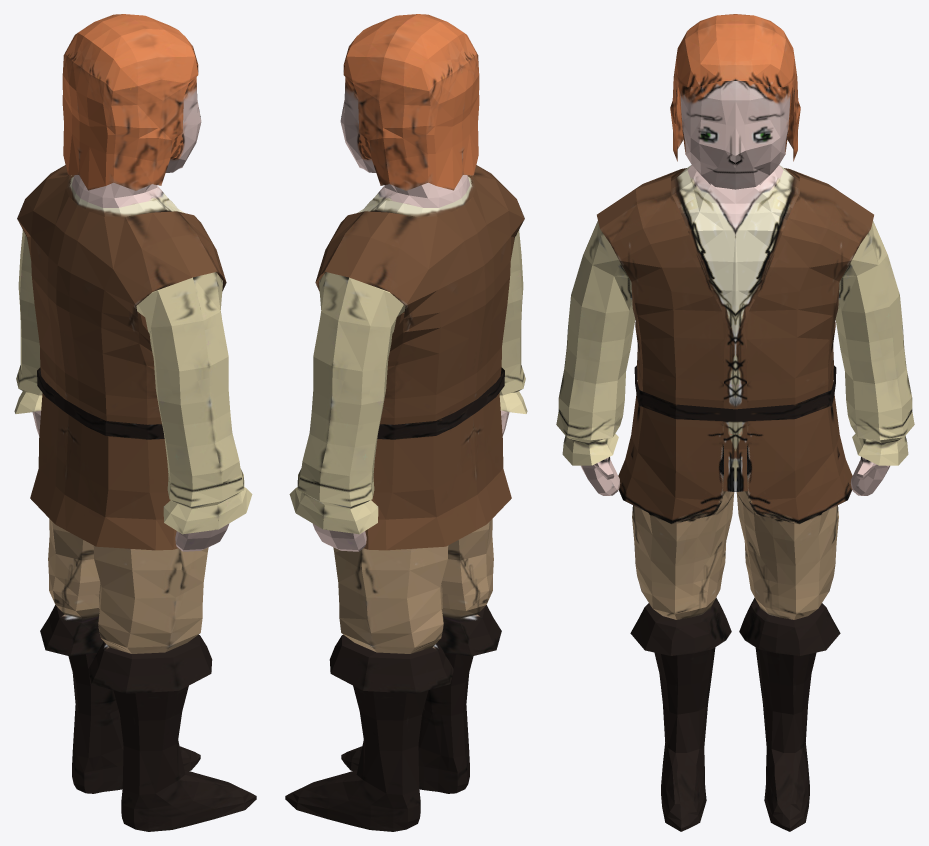
File: manfred.dae
The picture shows the model from 3 angles, left to right: view 1: azimuth 30°, elevation 25°; view 2: azimuth 150°, elevation 25°; view 3: azimuth 270°, elevation 25°; orthographic projection. The views are drawn at different scales.
Parts seen in each view (by area): view 1: Cube; view 2: Cube; view 3: Cube.
Boxes of the visible parts, left/top/right/bottom form: Cube: left=14, top=14, right=256, bottom=831; Cube: left=285, top=14, right=527, bottom=831; Cube: left=556, top=14, right=914, bottom=831.
Bounding box in the file's own units: 3.52 × 6.45 × 15.18.
Materials: 1 (1 with a texture image).
